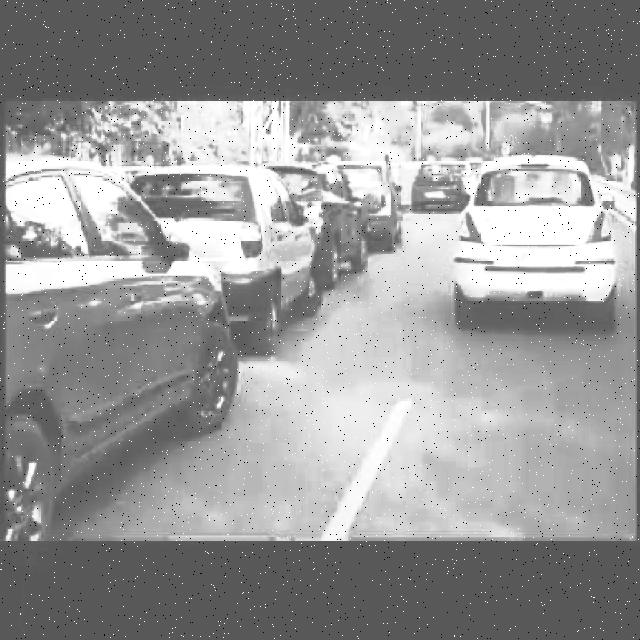Car: (0, 143, 235, 532), (131, 156, 325, 348), (460, 163, 627, 323), (272, 151, 371, 284), (343, 154, 407, 254), (406, 151, 476, 220)
